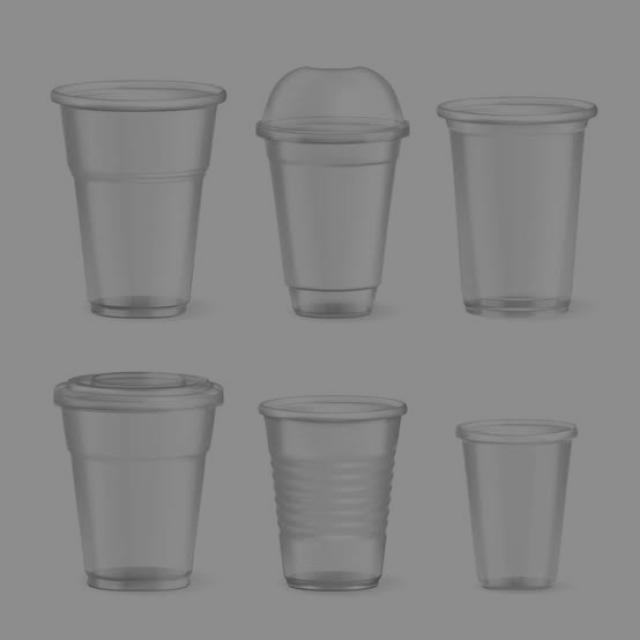plastic: (39, 73, 234, 325), (44, 360, 241, 604), (247, 55, 424, 326), (434, 85, 603, 326), (256, 379, 424, 606), (441, 400, 598, 605)
